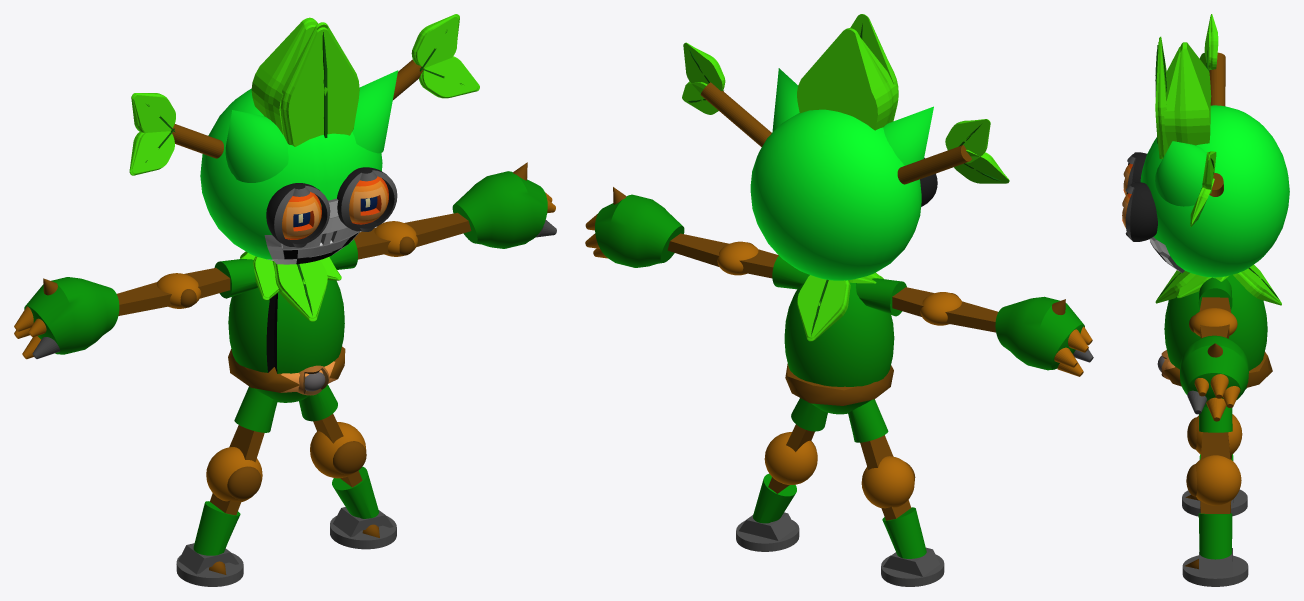
Rendered from ecoCharacterModel.fbx.
3 renders of one model, left to right at view 1: azimuth 30°, elevation 25°; view 2: azimuth 150°, elevation 25°; view 3: azimuth 270°, elevation 25°, orthographic. The views are drawn at different scales.
Parts seen in each view (by area): view 1: Sphere.011, Sphere.004, Cylinder.033, Cylinder.018, Cylinder.007, Cone.005, Sphere.012, Sphere.013, Cylinder.034, Cone.004, Cylinder.023, Icosphere (+26 smaller); view 2: Sphere.011, Sphere.004, Cylinder.034, Cylinder.018, Cylinder.007, Cylinder.038, Sphere, Icosphere, Sphere.003, Cone.005, Cylinder.001, Cylinder.035 (+22 smaller); view 3: Sphere.011, Sphere.004, Cylinder.034, Cylinder.018, Cone.004, Sphere.003, Sphere.013, Cylinder.004, Cylinder.005, Cylinder.033, Cylinder.038, Sphere.009 (+24 smaller).
Boxes of the visible parts, box(x1,y1,x2,y2) form: Sphere.011: box(200, 88, 382, 264); Sphere.004: box(228, 280, 344, 402); Cylinder.033: box(280, 22, 359, 146); Cylinder.018: box(452, 171, 547, 248); Cylinder.007: box(24, 277, 119, 354); Cone.005: box(225, 110, 288, 182); Sphere.012: box(266, 183, 330, 247); Sphere.013: box(337, 167, 397, 231); Cylinder.034: box(251, 17, 317, 135); Cone.004: box(352, 70, 398, 153); Cylinder.023: box(272, 260, 327, 321); Icosphere: box(228, 346, 345, 392); Sphere.011: box(750, 109, 921, 280); Sphere.004: box(784, 281, 894, 414); Cylinder.034: box(797, 28, 898, 130); Cylinder.018: box(595, 194, 684, 267); Cylinder.007: box(995, 296, 1084, 370); Cylinder.038: box(797, 275, 850, 341); Sphere: box(861, 456, 914, 508); Icosphere: box(785, 363, 893, 405); Sphere.003: box(764, 432, 817, 484); Cone.005: box(883, 106, 933, 165); Cylinder.001: box(882, 507, 926, 558); Cylinder.035: box(700, 82, 771, 147); Sphere.011: box(1140, 105, 1289, 277); Sphere.004: box(1164, 274, 1267, 388); Cylinder.034: box(1164, 42, 1211, 147); Cylinder.018: box(1180, 335, 1248, 407); Cone.004: box(1155, 141, 1206, 206); Sphere.003: box(1195, 455, 1241, 505); Sphere.013: box(1122, 182, 1157, 241); Cylinder.004: box(1198, 513, 1232, 559); Cylinder.005: box(1182, 555, 1248, 586); Cylinder.033: box(1155, 36, 1168, 158); Cylinder.038: box(1233, 264, 1281, 305); Sphere.009: box(1193, 308, 1237, 336).
Size of the model in its own units: 65.57 by 64.64 by 19.47.
